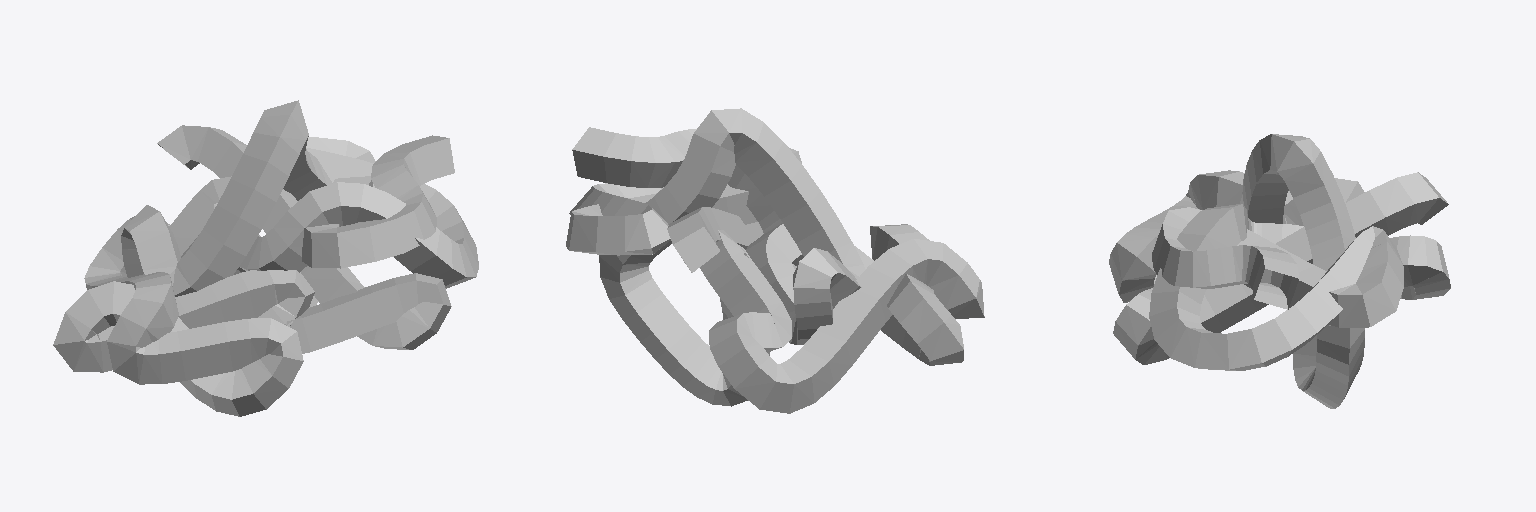
The model's file is small intestine mesh.obj.
3 renders of one model, left to right at view 1: azimuth 30°, elevation 25°; view 2: azimuth 150°, elevation 25°; view 3: azimuth 270°, elevation 25°, orthographic.
Visible parts, largest first — view 1: small_intestine_mesh_CUBezierCurve.008; view 2: small_intestine_mesh_CUBezierCurve.008; view 3: small_intestine_mesh_CUBezierCurve.008.
Part boxes in pixels (left/top/right/bottom): small_intestine_mesh_CUBezierCurve.008: left=53, top=100, right=478, bottom=416; small_intestine_mesh_CUBezierCurve.008: left=566, top=108, right=984, bottom=413; small_intestine_mesh_CUBezierCurve.008: left=1109, top=134, right=1450, bottom=408.
Size of the model in its own units: 3.1 by 2.06 by 2.3.